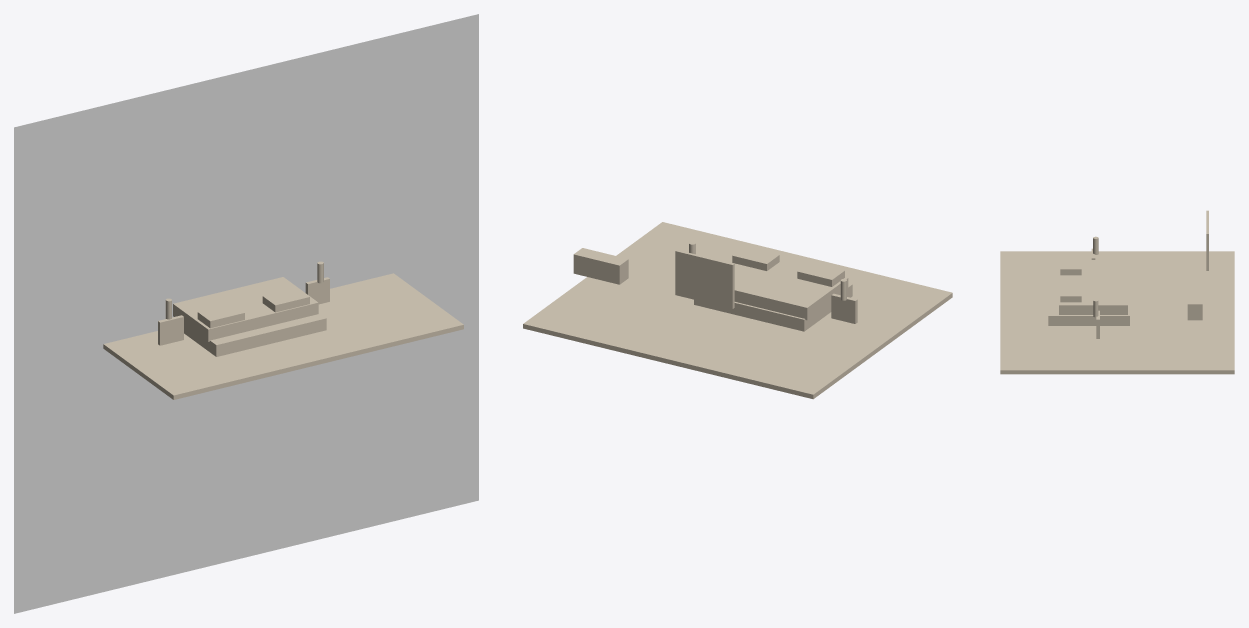
File: bedroom-minimalist.glb
3 views of the same model, side by side, from view 1: azimuth 30°, elevation 25°; view 2: azimuth 150°, elevation 25°; view 3: azimuth 270°, elevation 25° (orthographic). The views are drawn at different scales.
Parts seen in each view (by area): view 1: object 1, cube-13, cube-15, cube-14, cube-16, cube-17, cube-18; view 2: cube-13, cube-15, cube-23, cube-14, cube-24, cube-17, cube-16, cube-18; view 3: cube-13, cube-15, cube-14, cube-24, cube-16, cube-17.
Part boxes in pixels (x1,y1,x2,y2): object 1: (14, 14, 478, 613); cube-13: (103, 273, 463, 399); cube-15: (173, 277, 318, 341); cube-14: (184, 312, 326, 356); cube-16: (197, 303, 244, 328); cube-17: (262, 287, 309, 312); cube-18: (158, 315, 183, 345); cube-13: (523, 222, 952, 399); cube-15: (724, 251, 848, 320); cube-23: (675, 250, 734, 308); cube-14: (694, 283, 852, 331); cube-24: (573, 248, 628, 284); cube-17: (732, 246, 779, 270); cube-16: (797, 262, 844, 286); cube-18: (831, 293, 857, 323); cube-13: (1000, 251, 1234, 374); cube-15: (1059, 260, 1127, 314); cube-14: (1048, 270, 1129, 325); cube-24: (1187, 285, 1202, 320); cube-16: (1060, 255, 1081, 275); cube-17: (1060, 282, 1081, 302).
Size of the model in its own units: 10 by 10 by 5.19.
